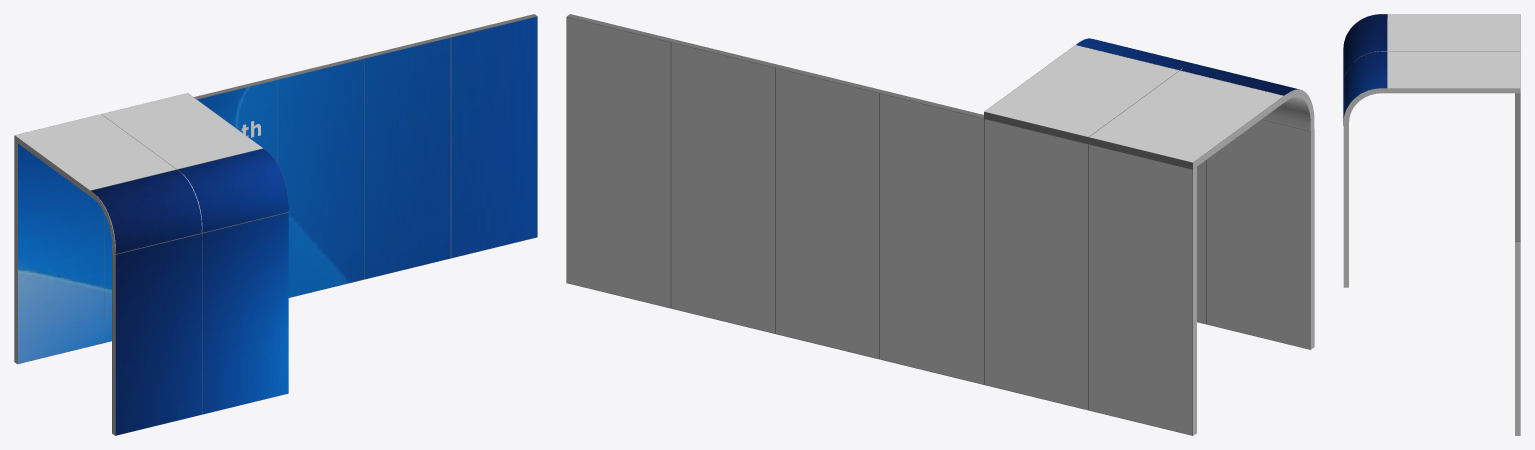
3 views of the same model, side by side, from view 1: azimuth 30°, elevation 25°; view 2: azimuth 150°, elevation 25°; view 3: azimuth 270°, elevation 25° (orthographic). The views are drawn at different scales.
Visible parts, largest first — view 1: BM208_graphic_backwall, BM208_graphic_kiosk, BM208_structure_panels, BM208_structure_metal; view 2: BM208_structure_panels, BM208_structure_metal, BM208_graphic_kiosk; view 3: BM208_structure_panels, BM208_graphic_kiosk, BM208_structure_metal.
Part boxes in pixels (bbox=[...]): BM208_graphic_backwall: bbox=[18, 17, 537, 363]; BM208_graphic_kiosk: bbox=[91, 148, 288, 435]; BM208_structure_panels: bbox=[14, 93, 288, 435]; BM208_structure_metal: bbox=[15, 14, 537, 435]; BM208_structure_panels: bbox=[566, 17, 1314, 435]; BM208_structure_metal: bbox=[566, 14, 1310, 435]; BM208_graphic_kiosk: bbox=[1076, 38, 1310, 120]; BM208_structure_panels: bbox=[1343, 14, 1520, 435]; BM208_graphic_kiosk: bbox=[1343, 14, 1387, 125]; BM208_structure_metal: bbox=[1343, 14, 1520, 241].
Bounding box in the file's own units: 5.95 × 2.48 × 2.
Materials: 6 (2 with a texture image).
